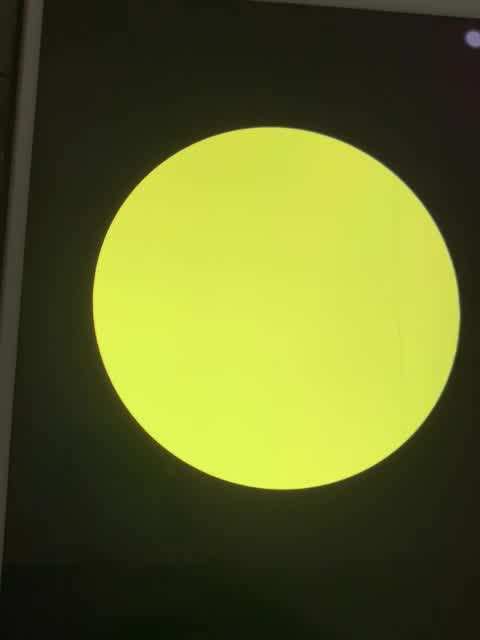left: (79, 114, 471, 500)
